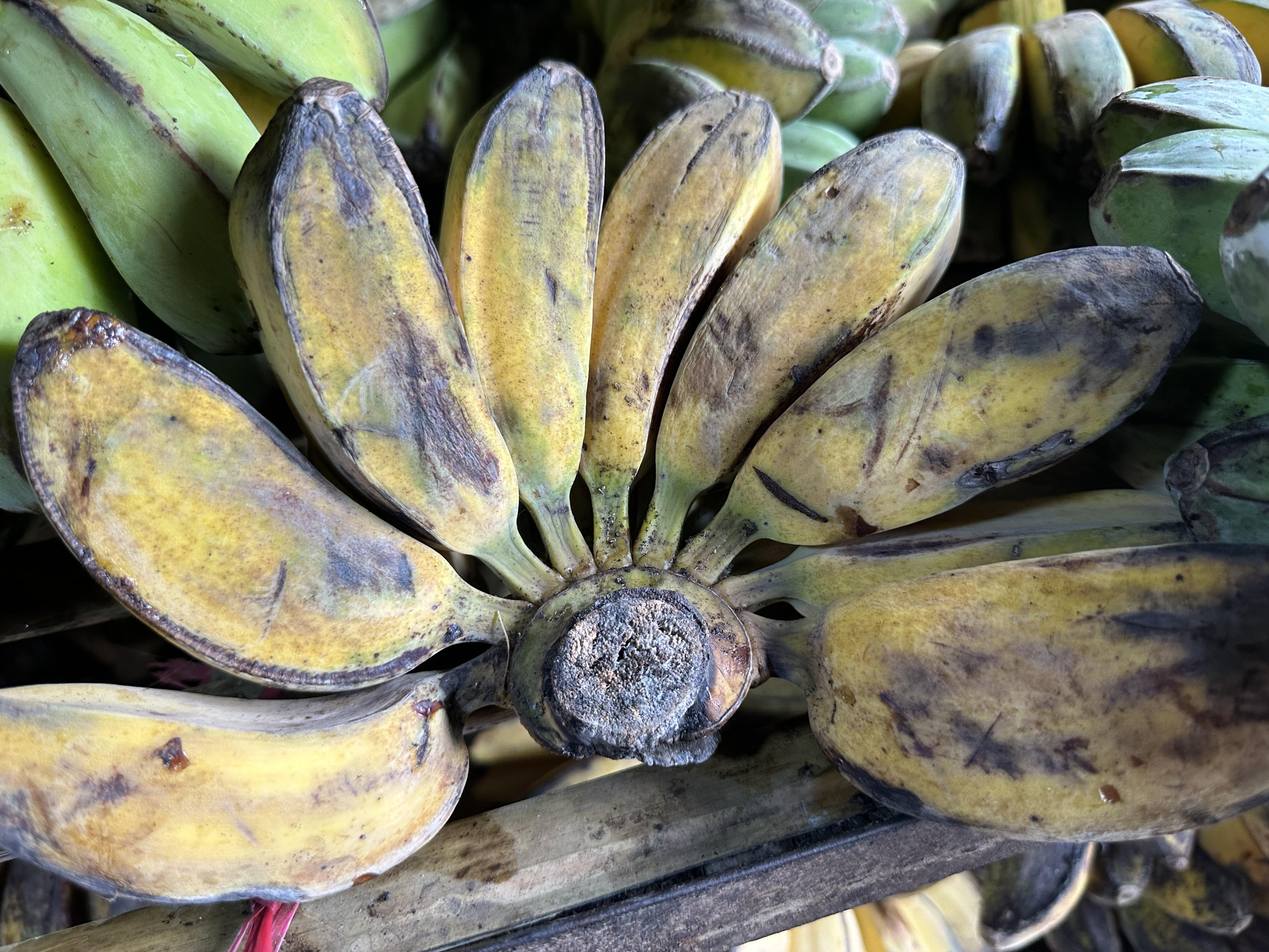underripe: (0, 63, 1268, 902), (0, 0, 388, 511), (1089, 77, 1269, 543), (889, 0, 1269, 184), (596, 0, 908, 193)
